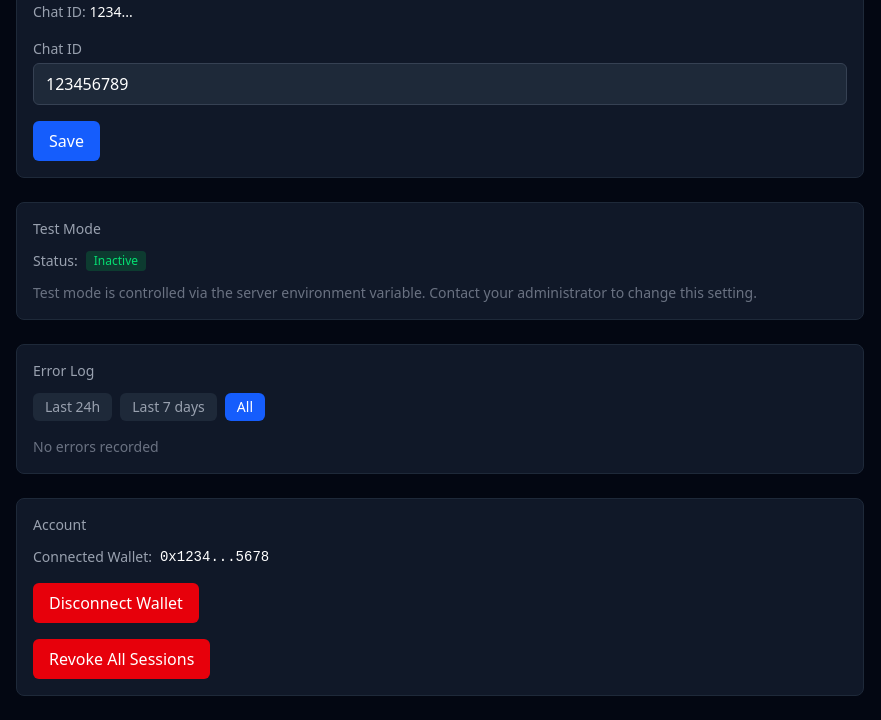
Test: SettingsPage - Account › shows disconnect confirmation dialog on click
The image size is (881, 720).
(page scrolled)
Click the button "Disconnect Wallet". click: (116, 603)
box: [33, 583, 199, 623]
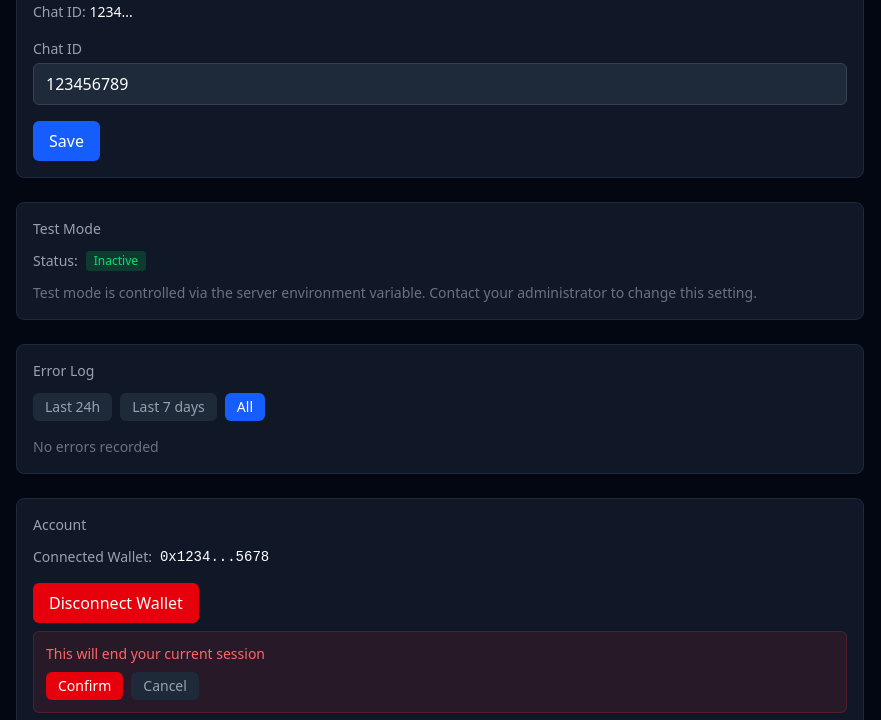
Now the text "This will end your current session" is shown, box [46, 644, 265, 663]
Now the button "Confirm" is shown, box [46, 672, 123, 700]
Now the button "Cancel" is shown, box [131, 672, 199, 700]
